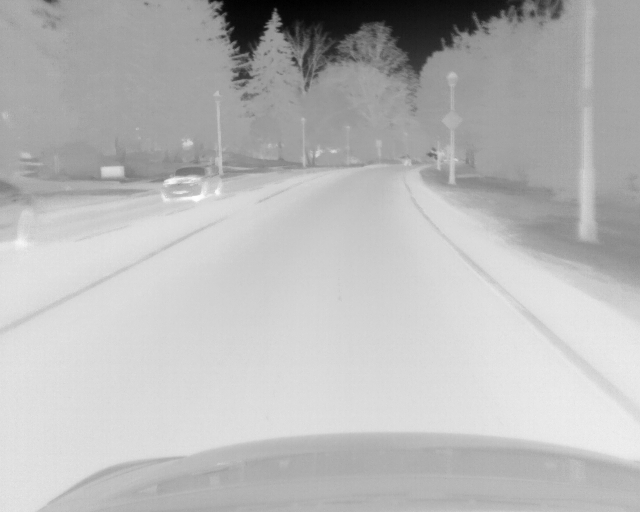car: (1, 180, 38, 248), (160, 163, 223, 202)
